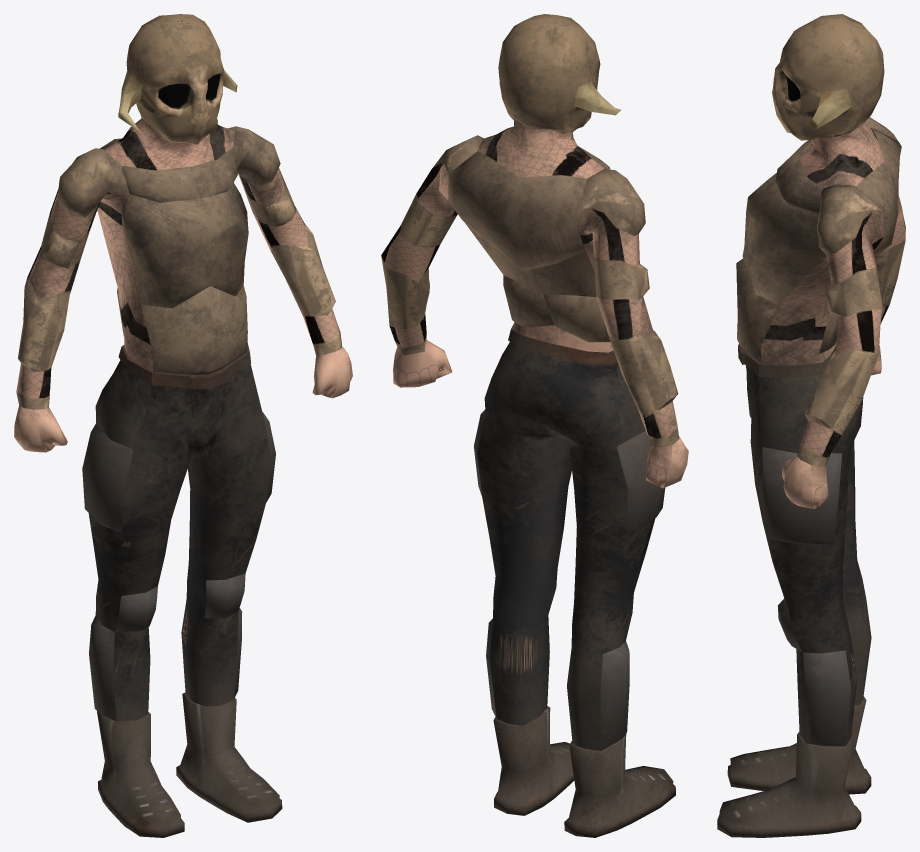
File: Anim_ataque_d1_npc1.0010.obj
The picture shows the model from 3 angles, left to right: view 1: azimuth 30°, elevation 25°; view 2: azimuth 150°, elevation 25°; view 3: azimuth 270°, elevation 25°; orthographic projection. The views are drawn at different scales.
Visible parts, largest first — view 1: NPC2; view 2: NPC2; view 3: NPC2.
Part boxes in pixels (x1,y1,x2,y2): NPC2: (14, 14, 352, 837); NPC2: (381, 14, 688, 837); NPC2: (717, 14, 905, 837).
Size of the model in its own units: 4.02 by 9.64 by 2.08.
